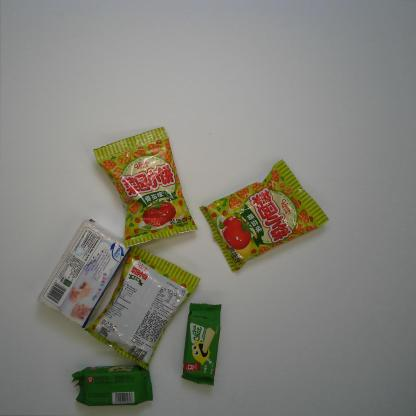Dessert: (71, 363, 154, 406), (181, 302, 222, 388)
Puffed Food: (84, 245, 202, 372), (199, 160, 330, 274), (93, 126, 198, 249)
Tissue: (37, 218, 133, 329)
